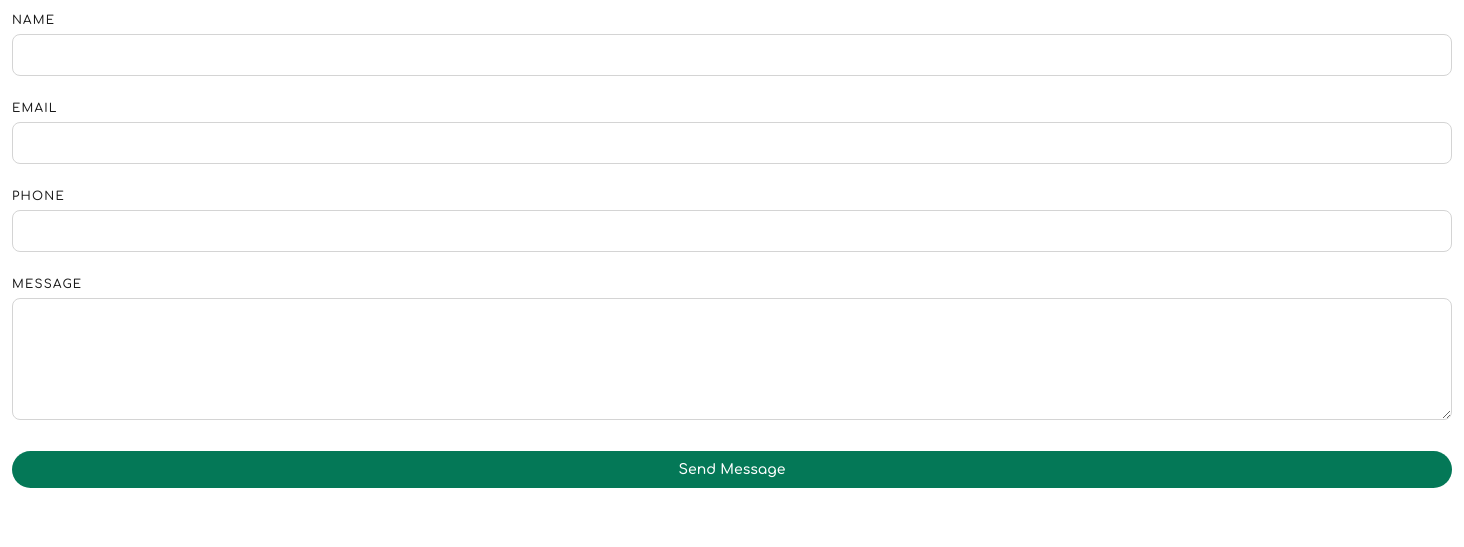
Test: ContactForm › shows error state when fetch fails
Type "Test" into the field labelled "Name" at [732, 55], box [12,34,1452,76]
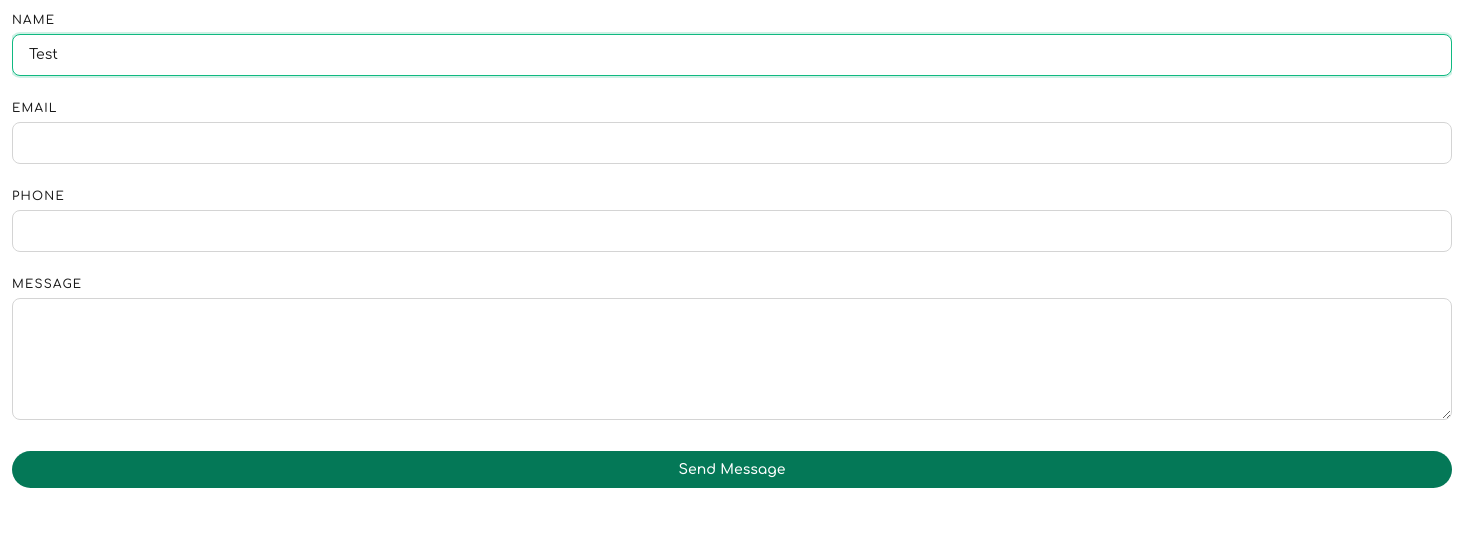
Type "test@test.com" into the field labelled "Email" at [732, 143], box [12,122,1452,164]
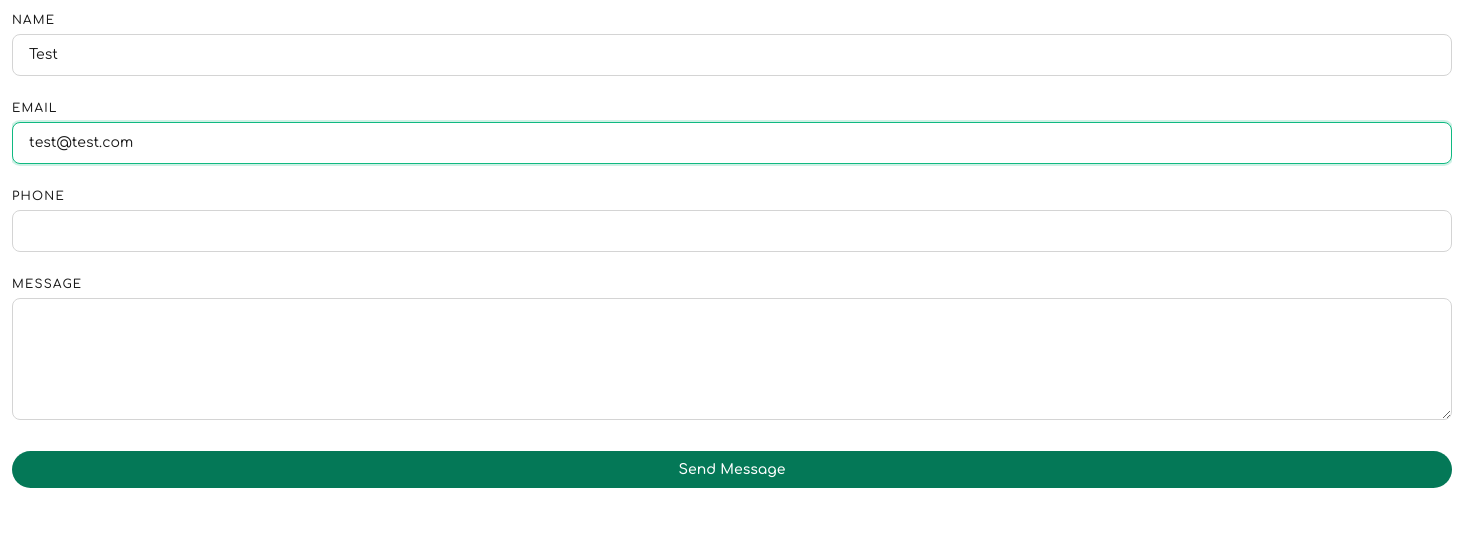
Type "9876543210" into the field labelled "Phone" at [732, 231], box [12,210,1452,252]
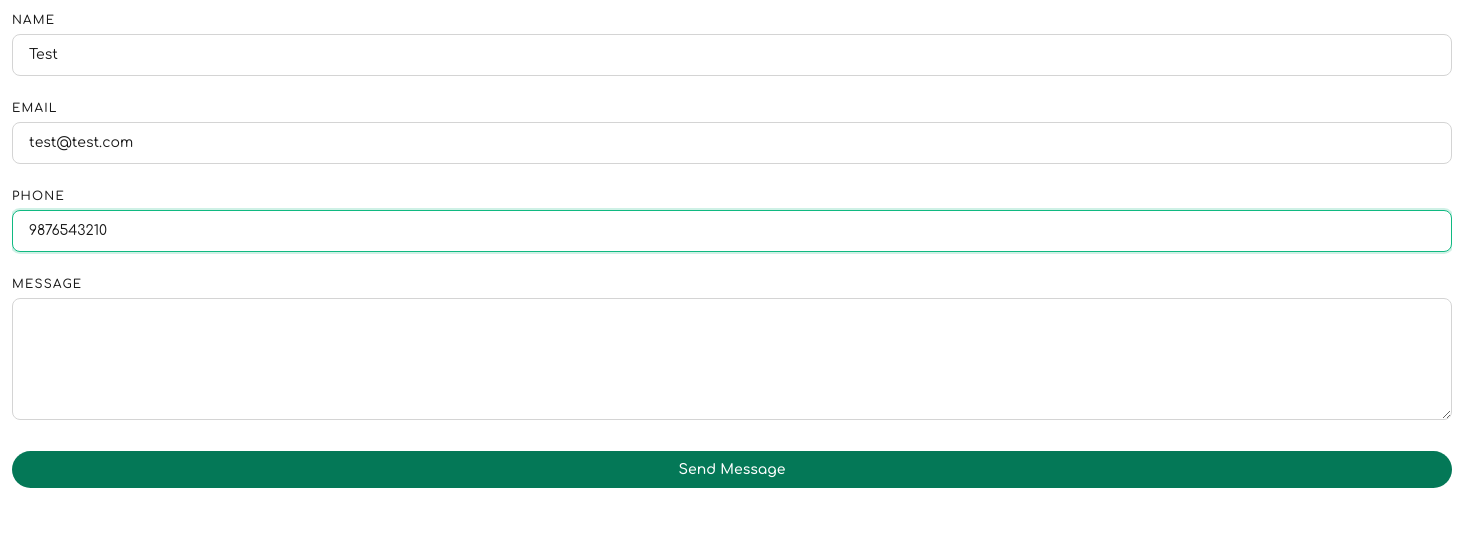
Type "Hello" into the text box labelled "Message" at [732, 359], box [12,298,1452,420]
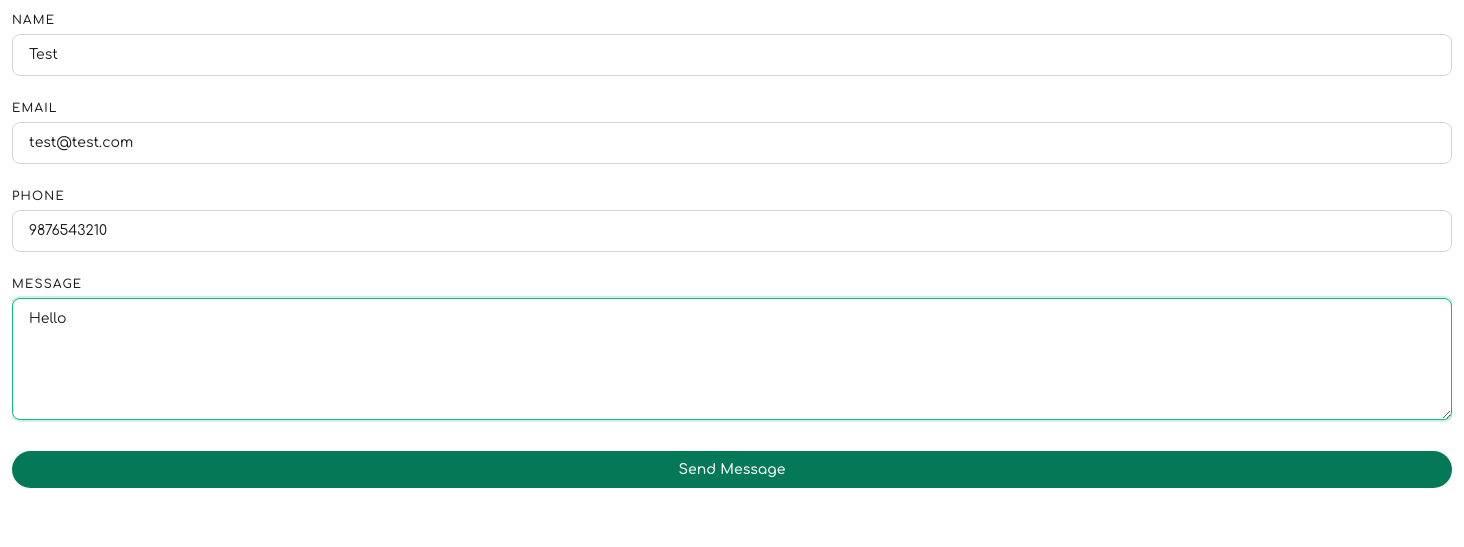
Click the button "Send Message" at [732, 470], box [12,451,1452,488]
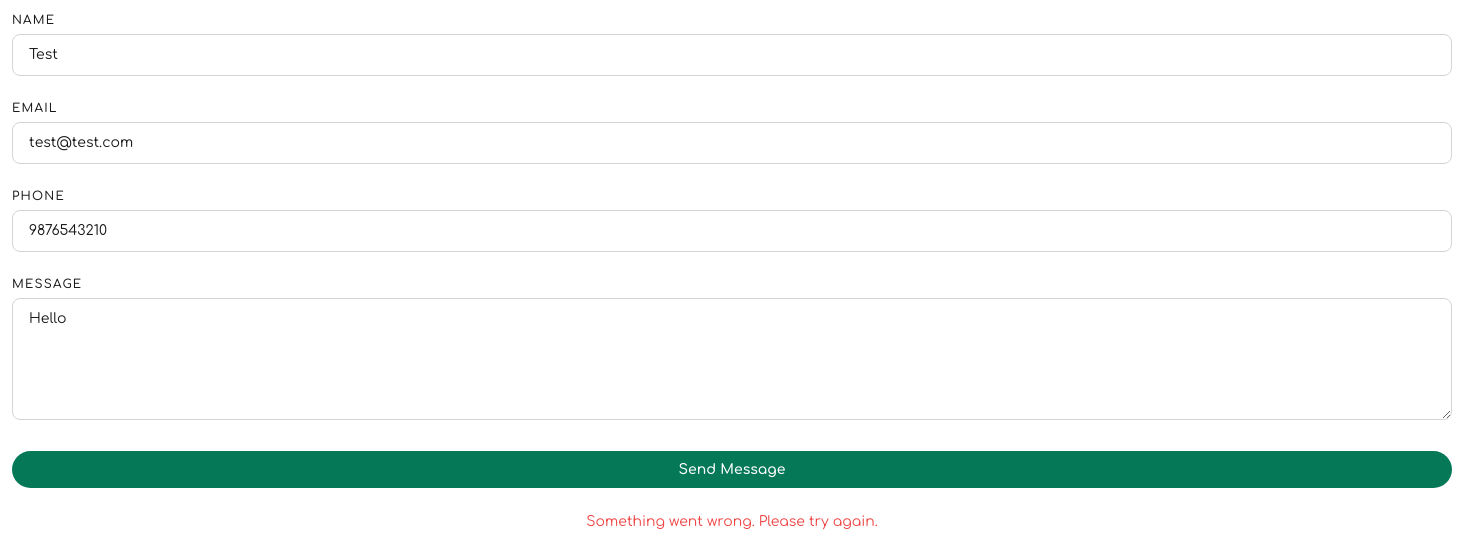
Check: the text "Something went wrong. Please try again." is shown, box [586,514,878,529]
